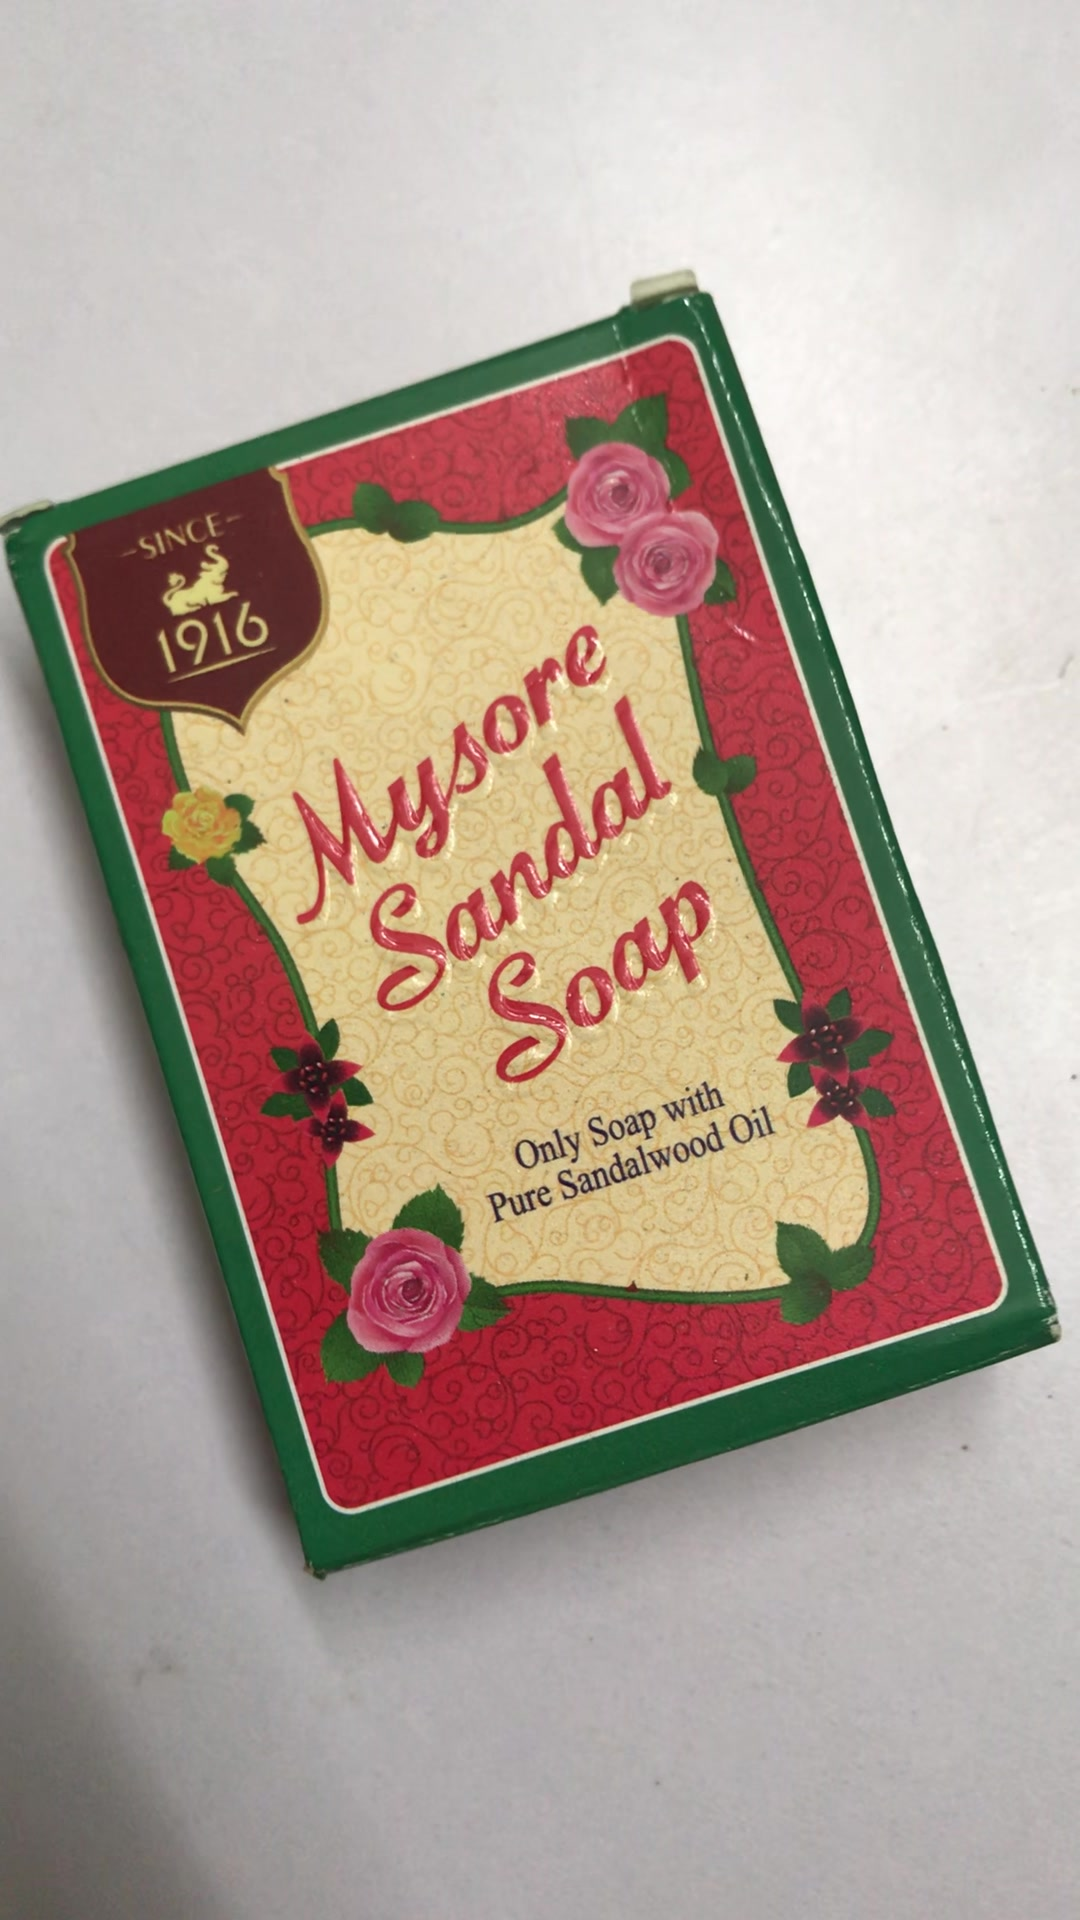mysore sandal soap: (5, 281, 1059, 1575)
